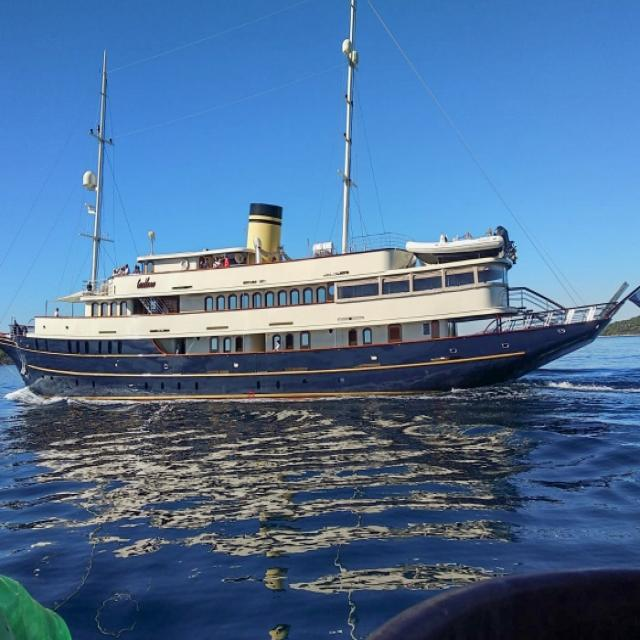cruises: (1, 192, 640, 407)
